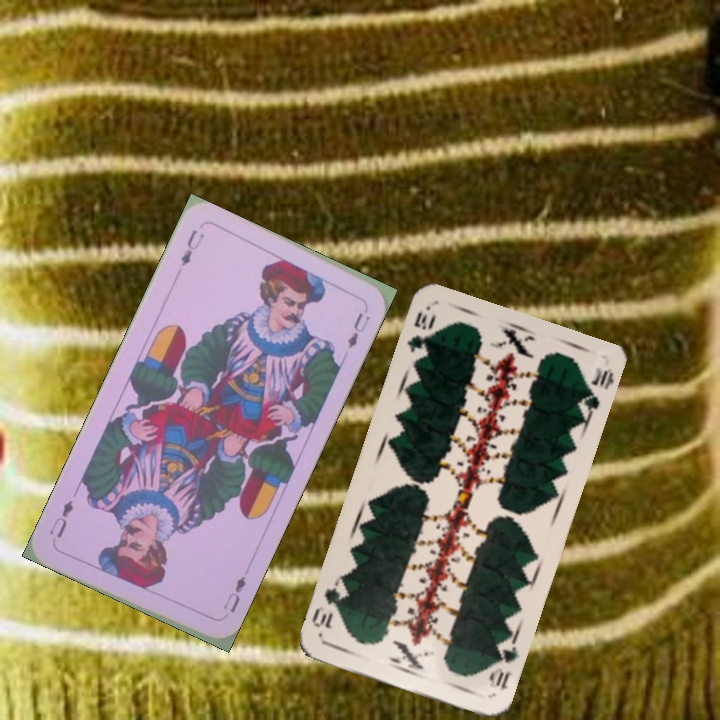EU: (176, 225, 208, 269), (218, 571, 249, 616)
G10: (485, 638, 522, 693), (402, 307, 439, 356)
